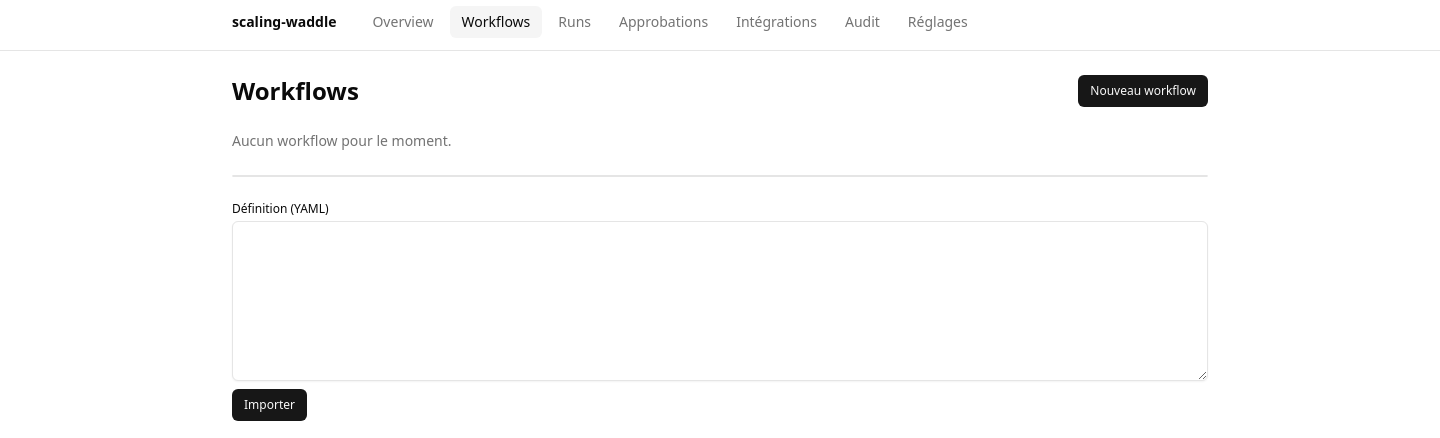
App routing › opens the new workflow page from the list
The image size is (1440, 438).
Click the button "Nouveau workflow" at (1143, 91), box 1078,75 -> 1208,107
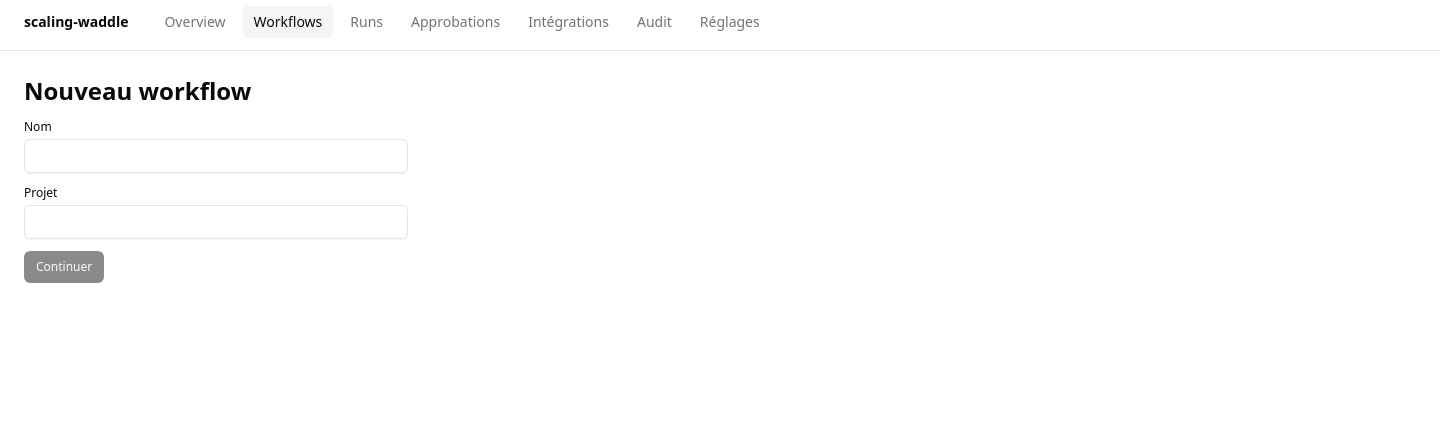
Now the field labelled "Nom" is shown, box 24,139 -> 408,173
